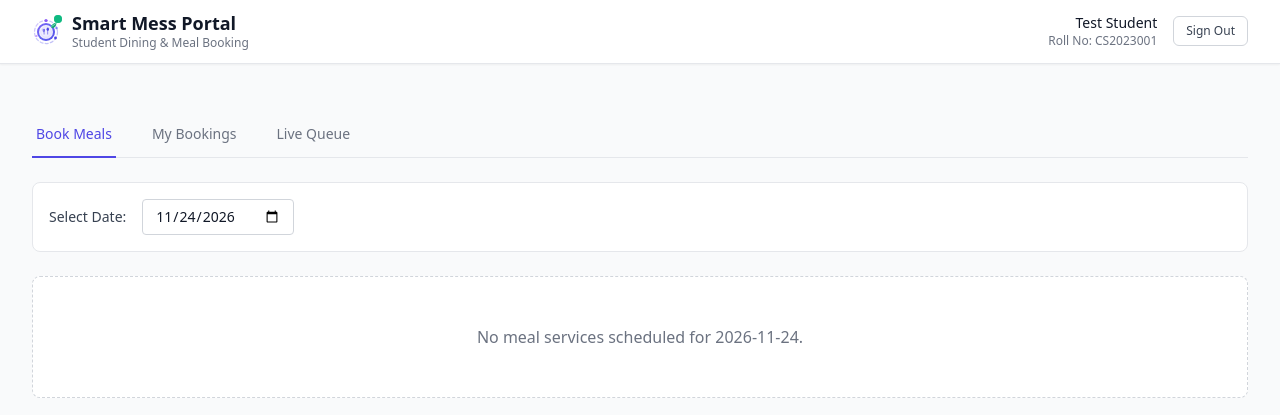
Phase 6 Client — Student Feedback & Dashboards › Student Dashboard Feedback Integration › shows submitted rating and Edit Rating button when feedback exists
The image size is (1280, 415).
Click the button "My Bookings": click(194, 134) [148, 112, 240, 158]
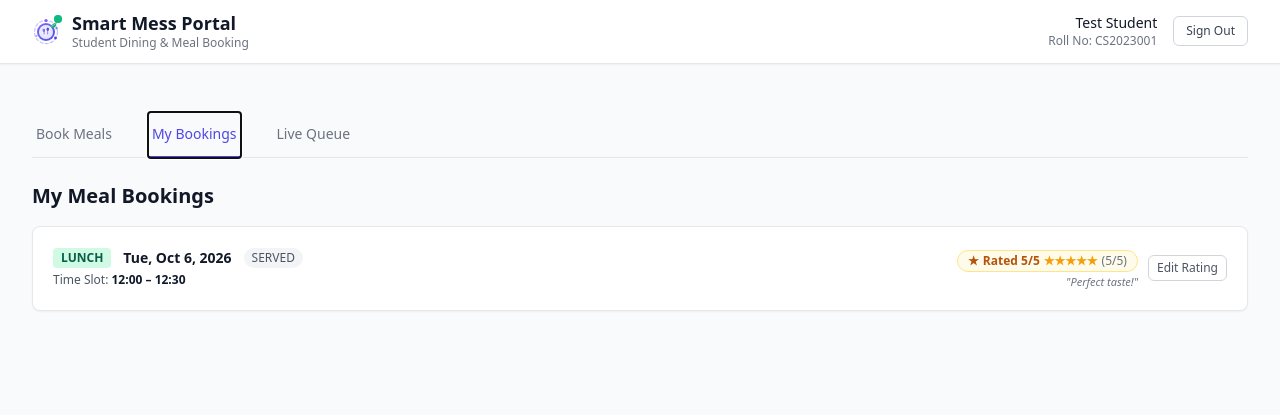
Expected: the text "(5/5)" is shown, [1102, 252, 1127, 268]
Expected: the text "\"Perfect taste!\"" is shown, [1066, 274, 1138, 288]
Expected: the button "Edit Rating" is shown, [1148, 255, 1227, 281]
